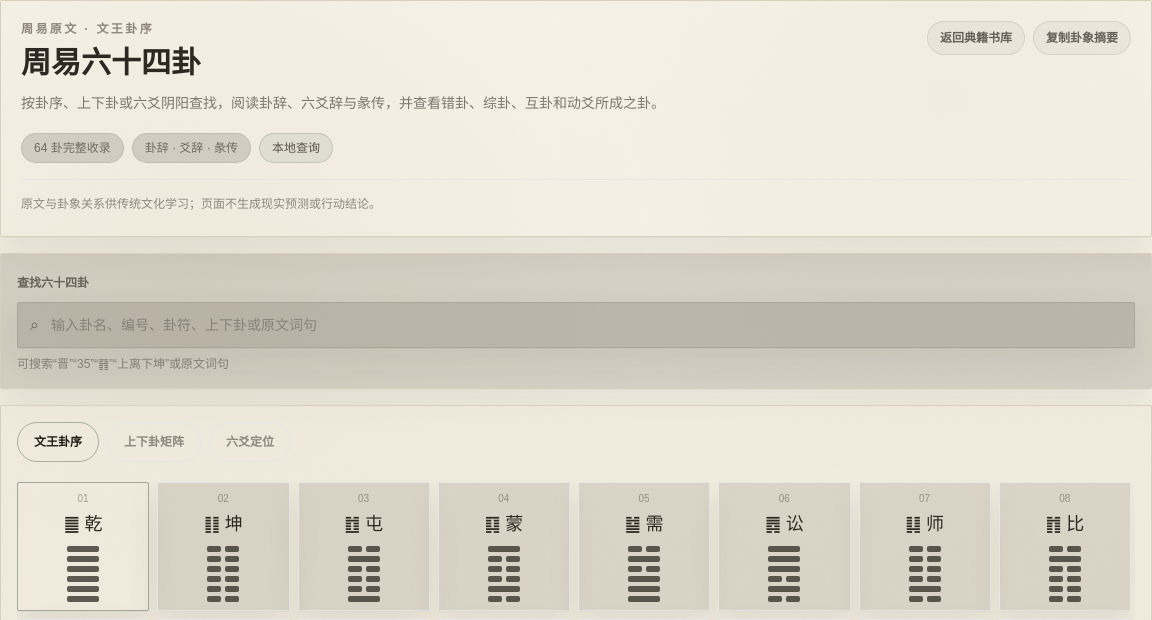
it: IchingLibrary › 按卦名搜索并打开第35卦晋
The width and height of the screenshot is (1152, 620).
Type "火地晋" into the search field labelled "查找六十四卦". click: (586, 325)
box: [51,315,1122,335]
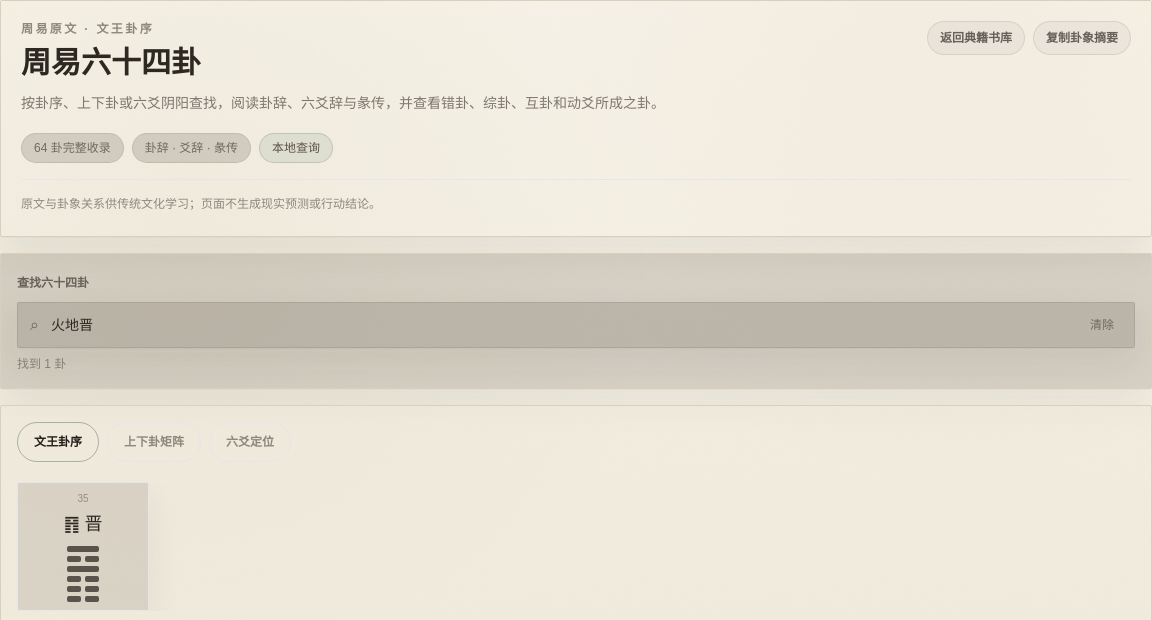
Check: the text "找到 1 卦" is shown, box [17,357,66,371]
Click the button "35 ䷢ 晋". click: click(83, 546)
box: [17,482,149,611]
(page scrolled)
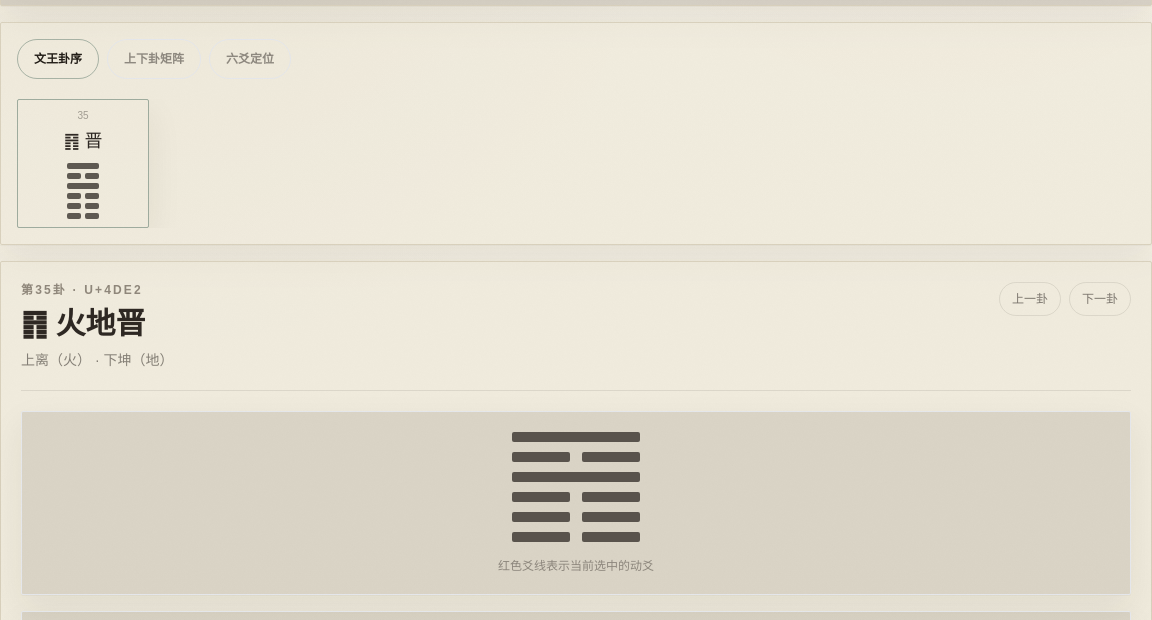
Check: the heading "䷢ 火地晋" is shown, box [21,307,145,340]
Check: the text "上离（火） · 下坤（地）" is shown, box [21,350,174,370]
